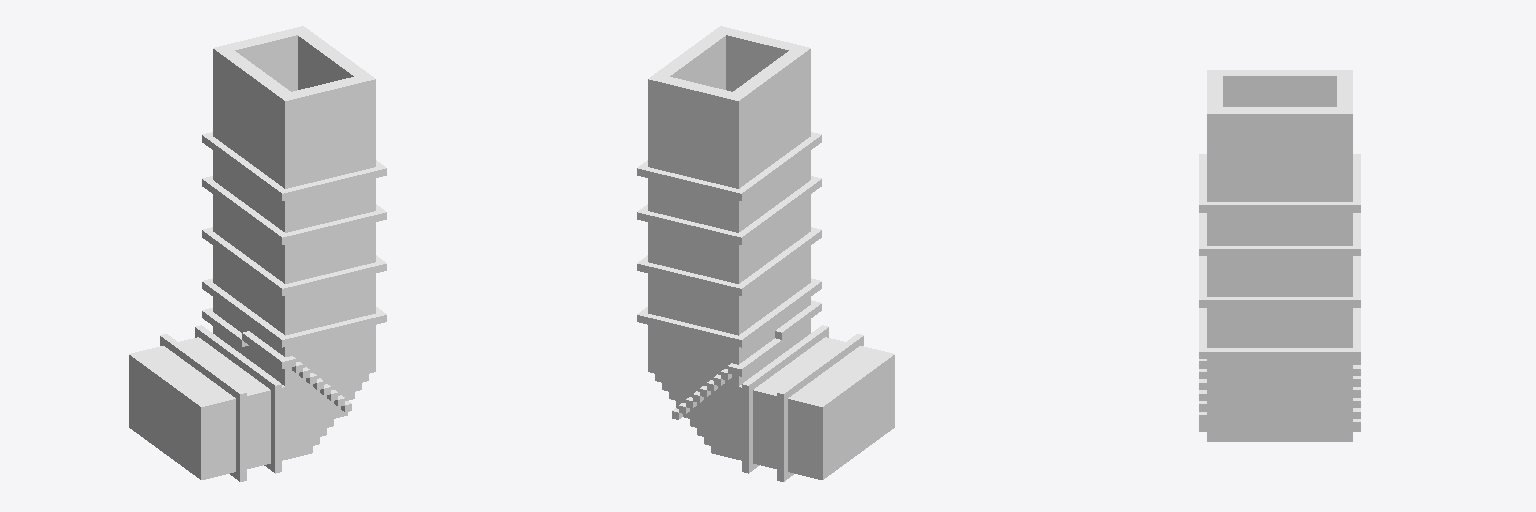
Rendered from alley_assets-14.obj.
3 renders of one model, left to right at view 1: azimuth 30°, elevation 25°; view 2: azimuth 150°, elevation 25°; view 3: azimuth 270°, elevation 25°, orthographic.
Parts seen in each view (by area): view 1: object 1; view 2: object 1; view 3: object 1.
Boxes of the visible parts, box(x1,y1,x2,y2) form: object 1: box(129, 26, 386, 481); object 1: box(637, 26, 894, 481); object 1: box(1199, 70, 1360, 441).
Size of the model in its own units: 2.6 by 5 by 2.